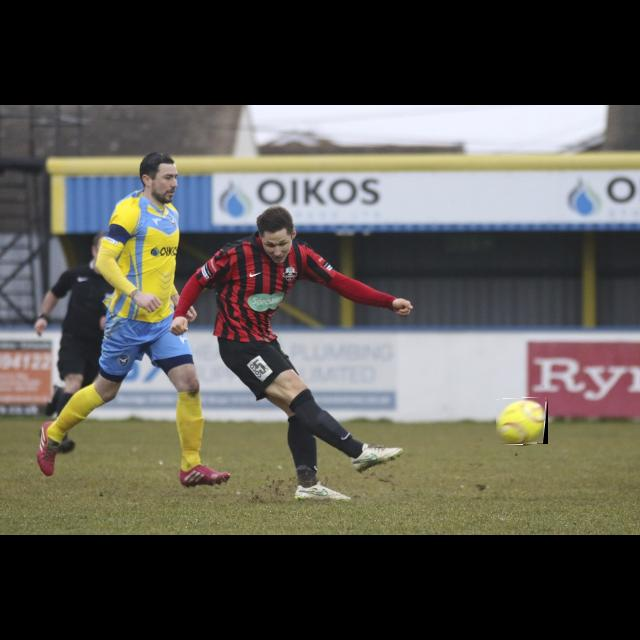Football: (496, 398, 548, 444)
